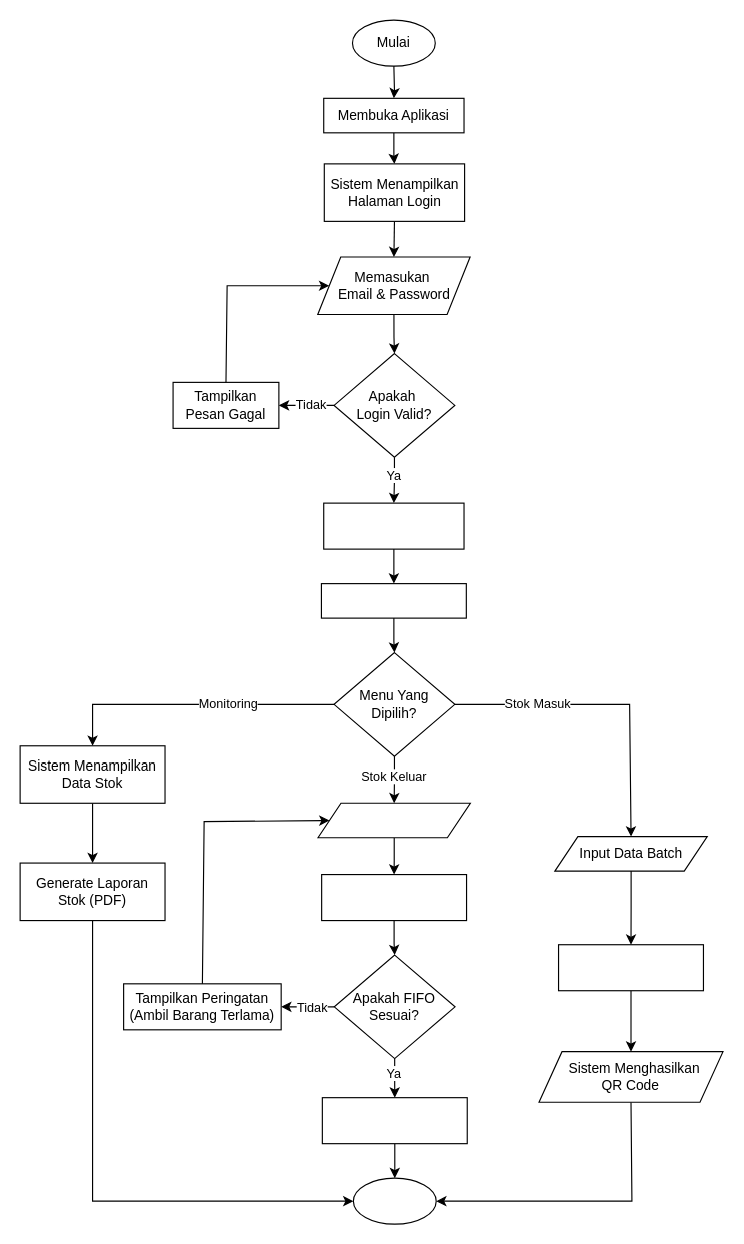
Some shapes in this 744 by 1244 pixel diagram are drawn without their labels. The centre of each missing label's shape, as x and y in pixels:
"Kurangi Stok Simpan Transaksi" goes at [394,1120].
"Memilih Menu" goes at [393,600].
"Scan QR Code" goes at [393,820].
"Selesai" goes at [394,1200].
"Sistem Menyimpan Data" goes at [630,967].
"Sistem Validasi FIFO" goes at [394,897].
"Tampilkan Dashboard" goes at [393,525].
